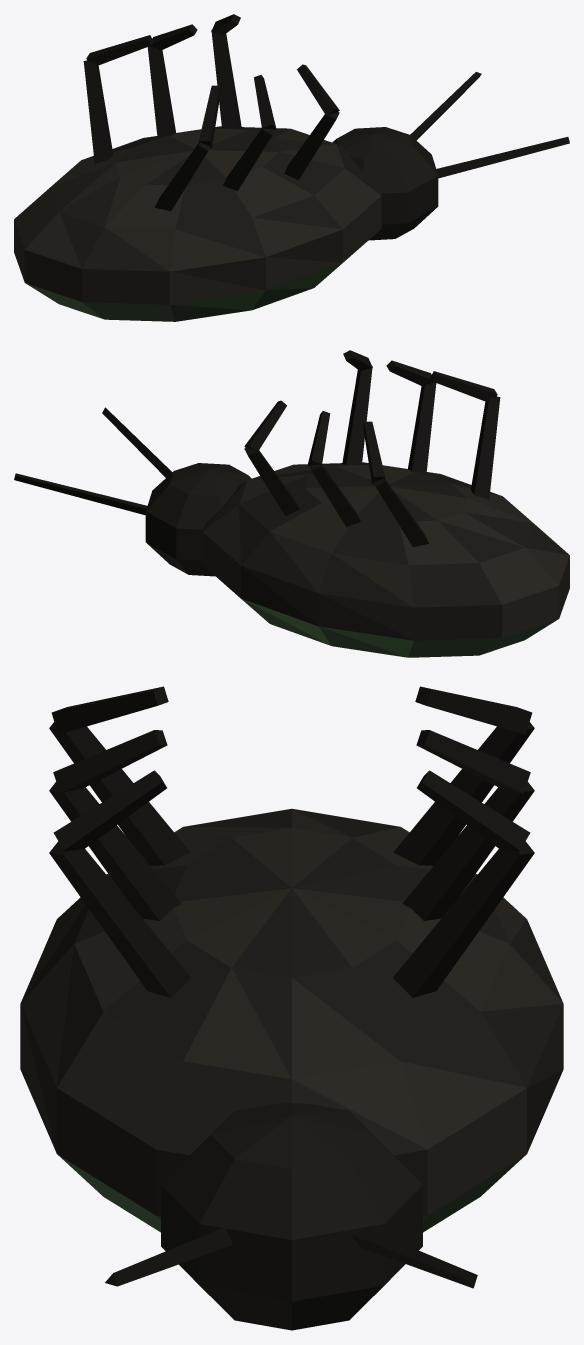
Rendered from food-bug.glb.
The picture shows the model from 3 angles, top to bottom: view 1: azimuth 30°, elevation 25°; view 2: azimuth 150°, elevation 25°; view 3: azimuth 270°, elevation 25°; orthographic projection. The views are drawn at different scales.
Size of the model in its own units: 3.53 by 1.63 by 1.66.
